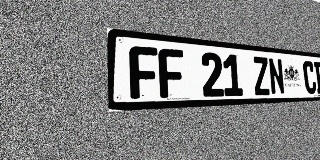1: (222, 54, 243, 96)
2: (201, 52, 224, 97)
C: (302, 61, 317, 94)
D: (314, 62, 320, 94)
F: (129, 45, 159, 99), (158, 48, 185, 98)
N: (268, 58, 285, 95)
Z: (252, 56, 271, 95)
